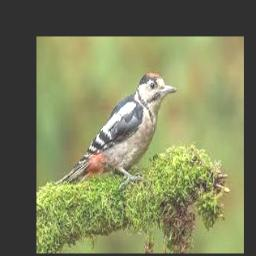Woodpecker: (56, 72, 177, 186)
